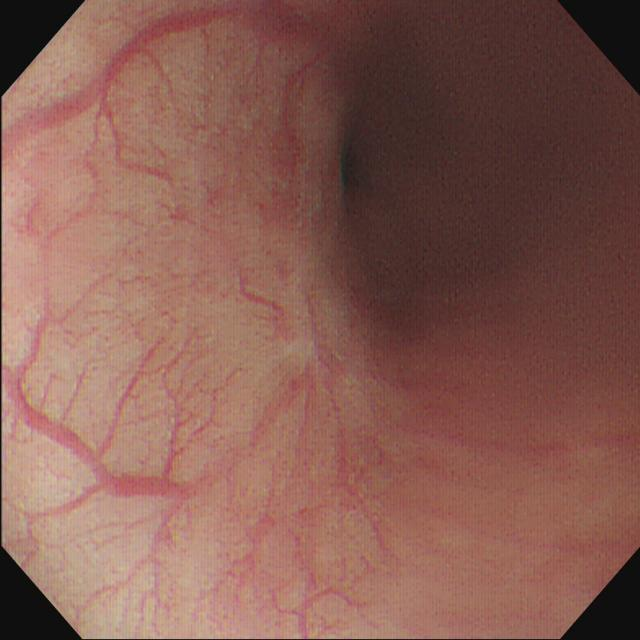A: (249, 110, 316, 252)
